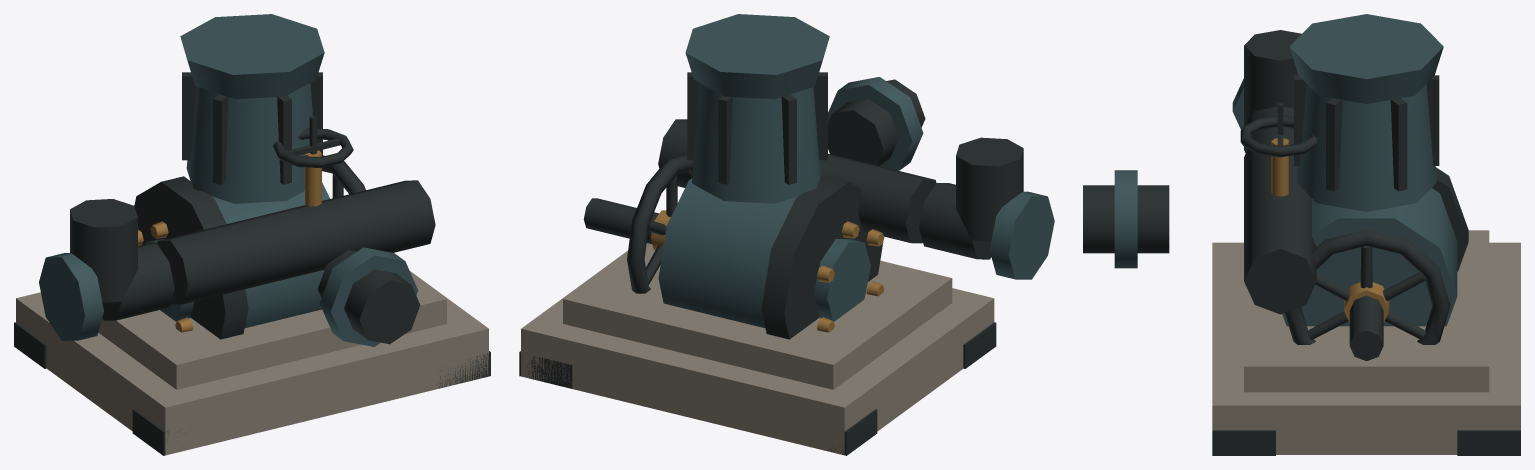
File: pump-station.source.glb
3 views of the same model, side by side, from view 1: azimuth 30°, elevation 25°; view 2: azimuth 150°, elevation 25°; view 3: azimuth 270°, elevation 25° (orthographic). The views are drawn at different scales.
Visible parts, largest first — view 1: pump-station-base-plinth-mesh, pump-station-manifold-main-mesh, pump-station-base-upper-mesh, pump-station-motor-cap-mesh, pump-station-motor-body-mesh, pump-station-pump-housing-front-ring-mesh, pump-station-outlet-upright-mesh, pump-station-rear-inlet-pipe-mesh, pump-station-outlet-mouth-mesh, pump-station-pump-housing-main-mesh, pump-station-rear-inlet-flange-mesh, pump-station-outlet-stub-mesh (+11 smaller); view 2: pump-station-base-plinth-mesh, pump-station-base-upper-mesh, pump-station-pump-housing-main-mesh, pump-station-motor-body-mesh, pump-station-motor-cap-mesh, pump-station-pump-housing-front-ring-mesh, pump-station-manifold-main-mesh, pump-station-outlet-upright-mesh, pump-station-outlet-mouth-mesh, pump-station-rear-inlet-pipe-mesh, pump-station-pump-inspection-cap-mesh, pump-station-rear-inlet-flange-mesh (+10 smaller); view 3: pump-station-base-plinth-mesh, pump-station-base-upper-mesh, pump-station-motor-body-mesh, pump-station-pump-housing-main-mesh, pump-station-motor-cap-mesh, pump-station-manifold-main-mesh, pump-station-rear-inlet-pipe-mesh, pump-station-flywheel-rim-mesh, pump-station-outlet-upright-mesh, pump-station-rear-inlet-flange-mesh, pump-station-drive-shaft-mesh, pump-station-base-foot-right-front-mesh (+14 smaller).
Part boxes in pixels (x1=…): pump-station-base-plinth-mesh: x1=16, y1=271, x2=488, y2=455; pump-station-manifold-main-mesh: x1=157, y1=180, x2=435, y2=304; pump-station-base-upper-mesh: x1=98, y1=272, x2=446, y2=389; pump-station-motor-cap-mesh: x1=180, y1=14, x2=324, y2=99; pump-station-motor-body-mesh: x1=186, y1=83, x2=312, y2=203; pump-station-pump-housing-front-ring-mesh: x1=134, y1=176, x2=248, y2=339; pump-station-outlet-upright-mesh: x1=70, y1=199, x2=137, y2=302; pump-station-rear-inlet-pipe-mesh: x1=317, y1=250, x2=420, y2=344; pump-station-outlet-mouth-mesh: x1=39, y1=253, x2=103, y2=340; pump-station-pump-housing-main-mesh: x1=211, y1=182, x2=329, y2=328; pump-station-rear-inlet-flange-mesh: x1=320, y1=247, x2=418, y2=346; pump-station-outlet-stub-mesh: x1=102, y1=244, x2=174, y2=320; pump-station-base-plinth-mesh: x1=521, y1=251, x2=994, y2=455; pump-station-base-upper-mesh: x1=563, y1=243, x2=952, y2=389; pump-station-pump-housing-main-mesh: x1=658, y1=178, x2=798, y2=327; pump-station-motor-body-mesh: x1=692, y1=83, x2=823, y2=203; pump-station-motor-cap-mesh: x1=685, y1=14, x2=829, y2=99; pump-station-pump-housing-front-ring-mesh: x1=761, y1=176, x2=883, y2=339; pump-station-manifold-main-mesh: x1=658, y1=119, x2=936, y2=243; pump-station-outlet-upright-mesh: x1=956, y1=137, x2=1023, y2=241; pump-station-outlet-mouth-mesh: x1=989, y1=191, x2=1054, y2=279; pump-station-rear-inlet-pipe-mesh: x1=828, y1=79, x2=925, y2=165; pump-station-pump-inspection-cap-mesh: x1=813, y1=239, x2=870, y2=321; pump-station-rear-inlet-flange-mesh: x1=828, y1=77, x2=923, y2=170; pump-station-base-plinth-mesh: x1=1212, y1=242, x2=1520, y2=454; pump-station-base-upper-mesh: x1=1244, y1=230, x2=1489, y2=392; pump-station-motor-body-mesh: x1=1296, y1=84, x2=1436, y2=211; pump-station-pump-housing-main-mesh: x1=1282, y1=188, x2=1457, y2=326; pump-station-motor-cap-mesh: x1=1289, y1=14, x2=1443, y2=103; pump-station-manifold-main-mesh: x1=1244, y1=127, x2=1316, y2=314; pump-station-rear-inlet-pipe-mesh: x1=1083, y1=185, x2=1169, y2=253; pump-station-flywheel-rim-mesh: x1=1285, y1=229, x2=1450, y2=344; pump-station-outlet-upright-mesh: x1=1244, y1=30, x2=1301, y2=122; pump-station-rear-inlet-flange-mesh: x1=1114, y1=170, x2=1137, y2=268; pump-station-drive-shaft-mesh: x1=1349, y1=295, x2=1383, y2=361; pump-station-base-foot-right-front-mesh: x1=1457, y1=430, x2=1520, y2=455.
Size of the model in its own units: 2.09 by 1.59 by 1.93.
